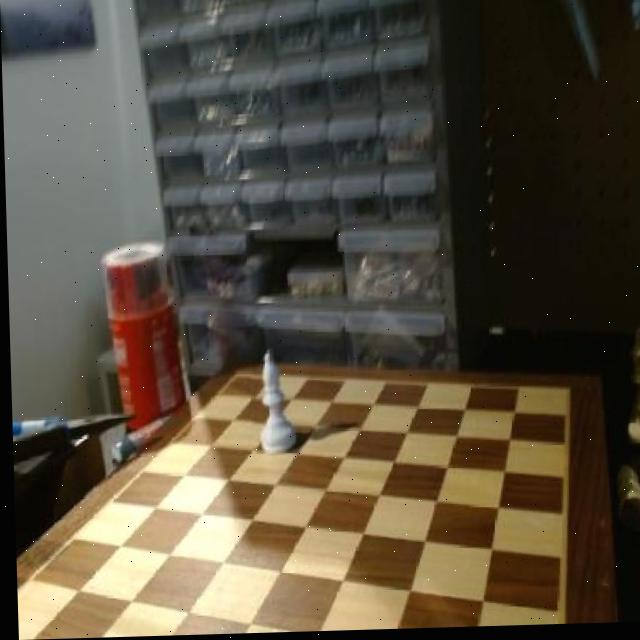black-rook: (250, 352, 294, 461)
